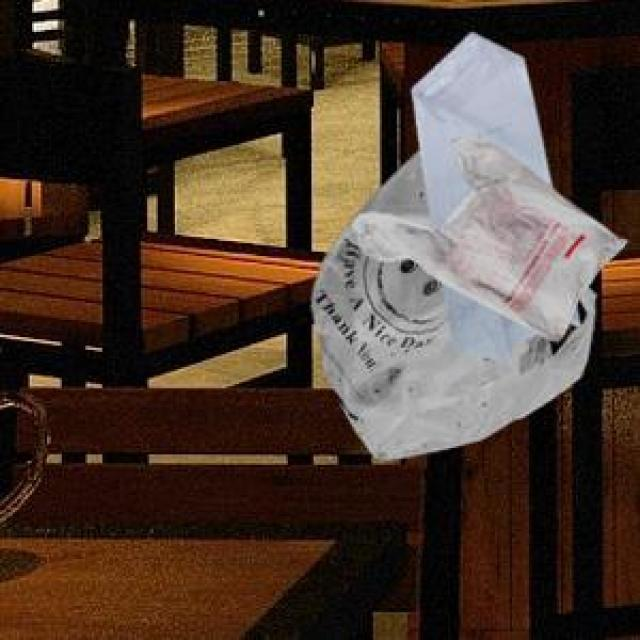waste: (313, 36, 629, 462)
